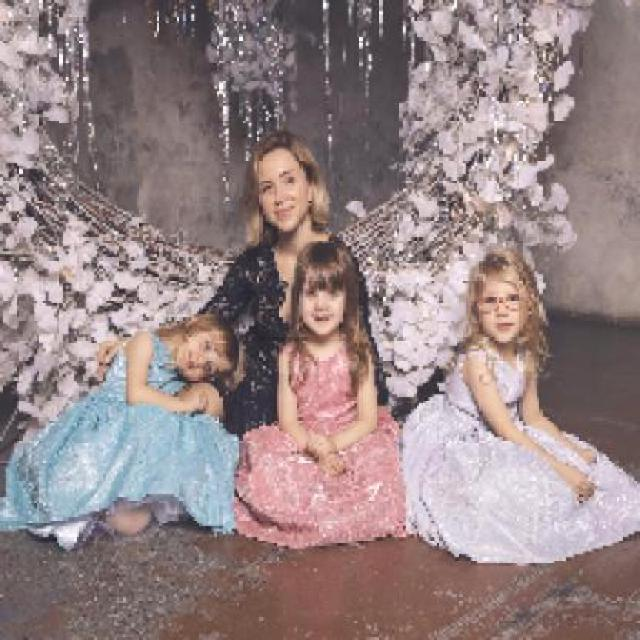child: (400, 250, 640, 567), (6, 312, 246, 552), (231, 242, 406, 548)
